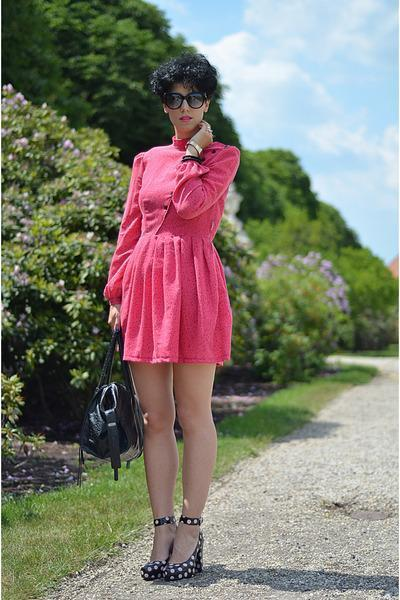bag: (74, 372, 148, 467)
dress: (104, 140, 239, 366)
shoe: (148, 534, 197, 563)
sunglass: (170, 80, 202, 107)
